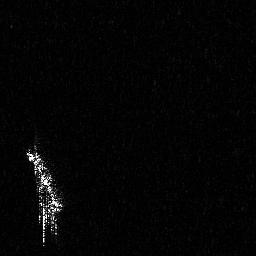ship: (19, 132, 70, 248)
